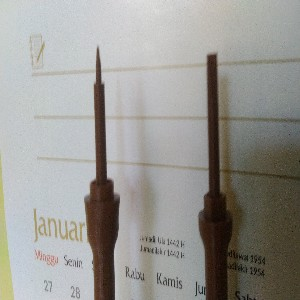obeng: (197, 52, 234, 300)
solder: (82, 45, 121, 300)
